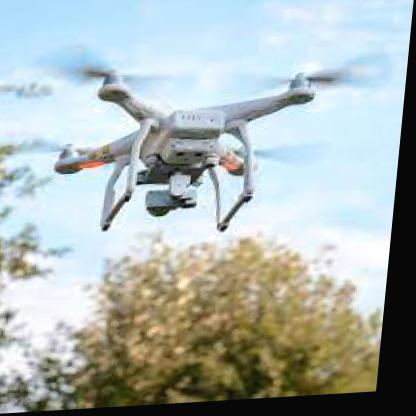UAS: (52, 62, 321, 243)
